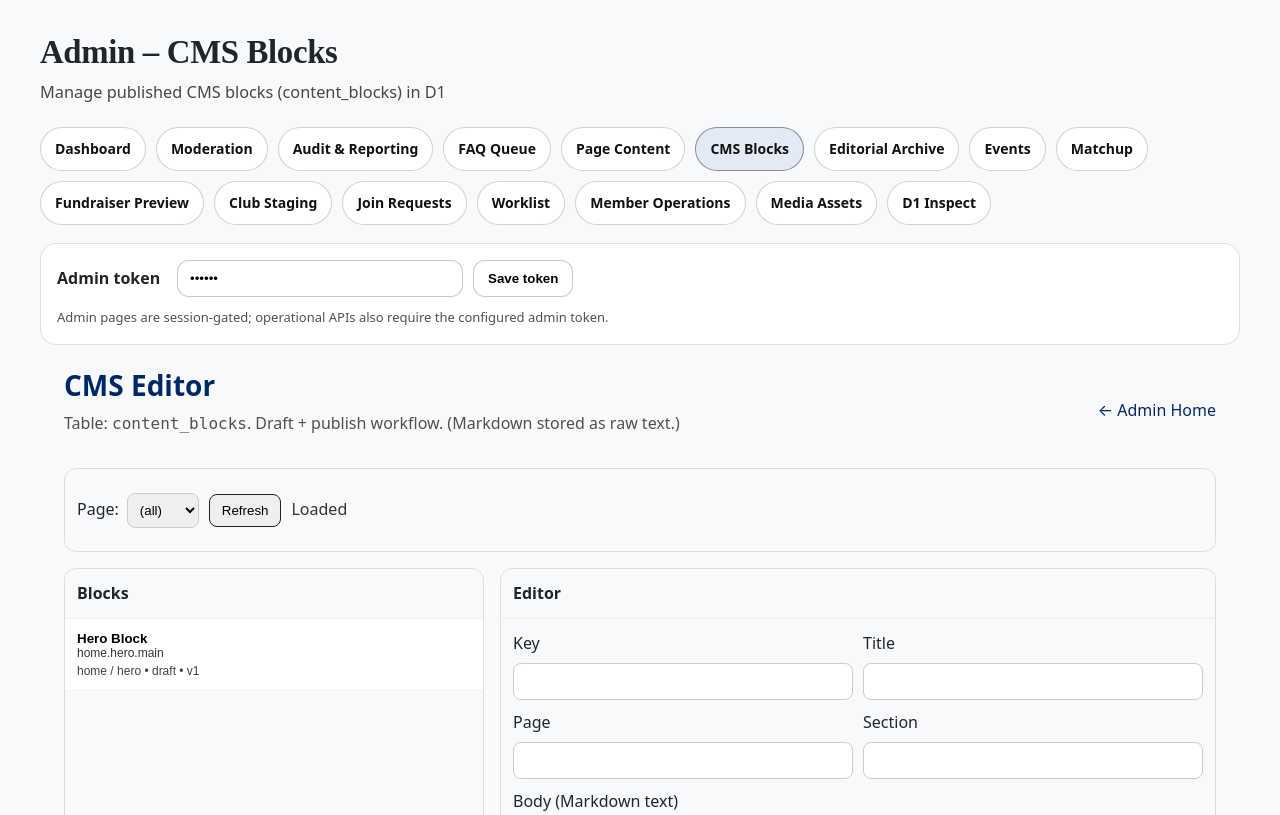
Test: admin CMS page › clears CMS editor fields when the admin token is removed
Click the text "Hero Block".
click(112, 639)  # box [77, 632, 147, 646]
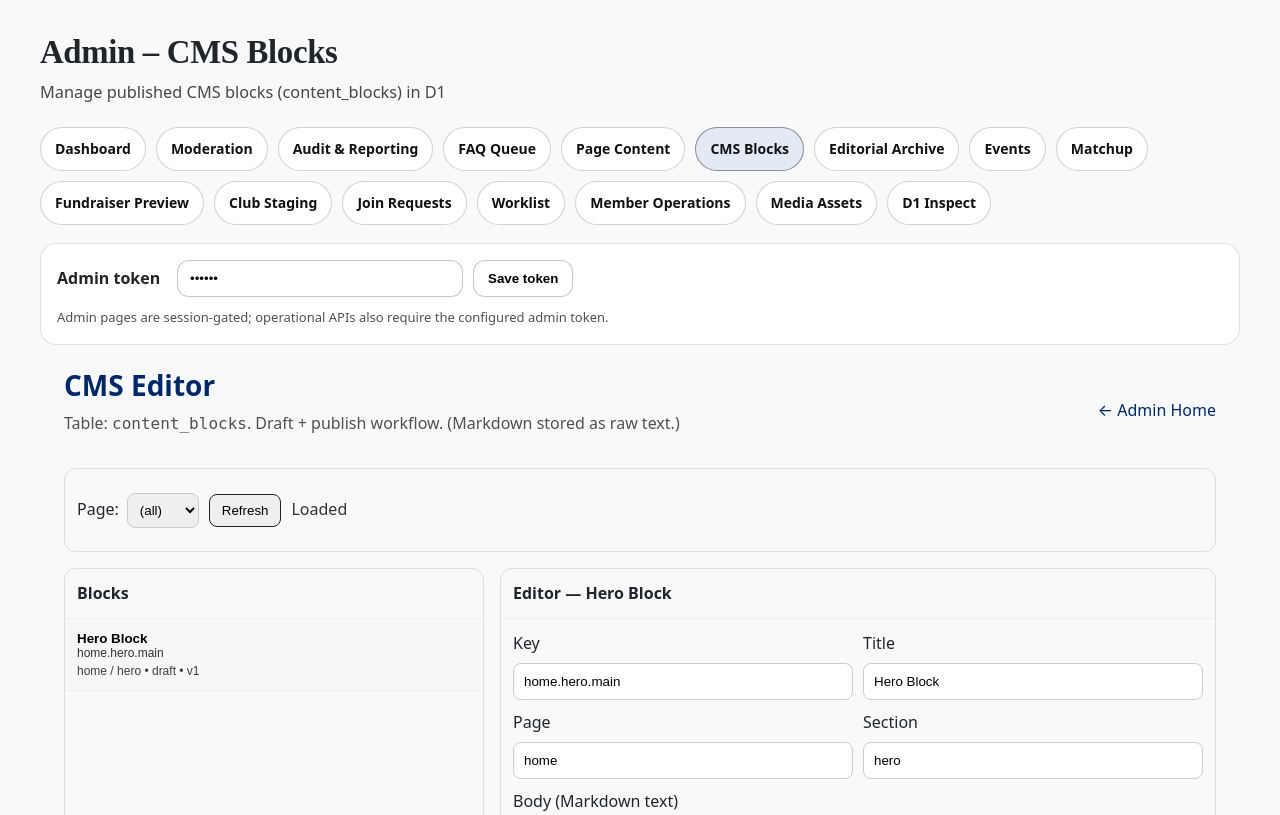
Expected: the field labelled "Key" holds "home.hero.main", [513, 663, 853, 700]
Clear the password field labelled "Admin token" at (320, 279), box [177, 260, 463, 297]
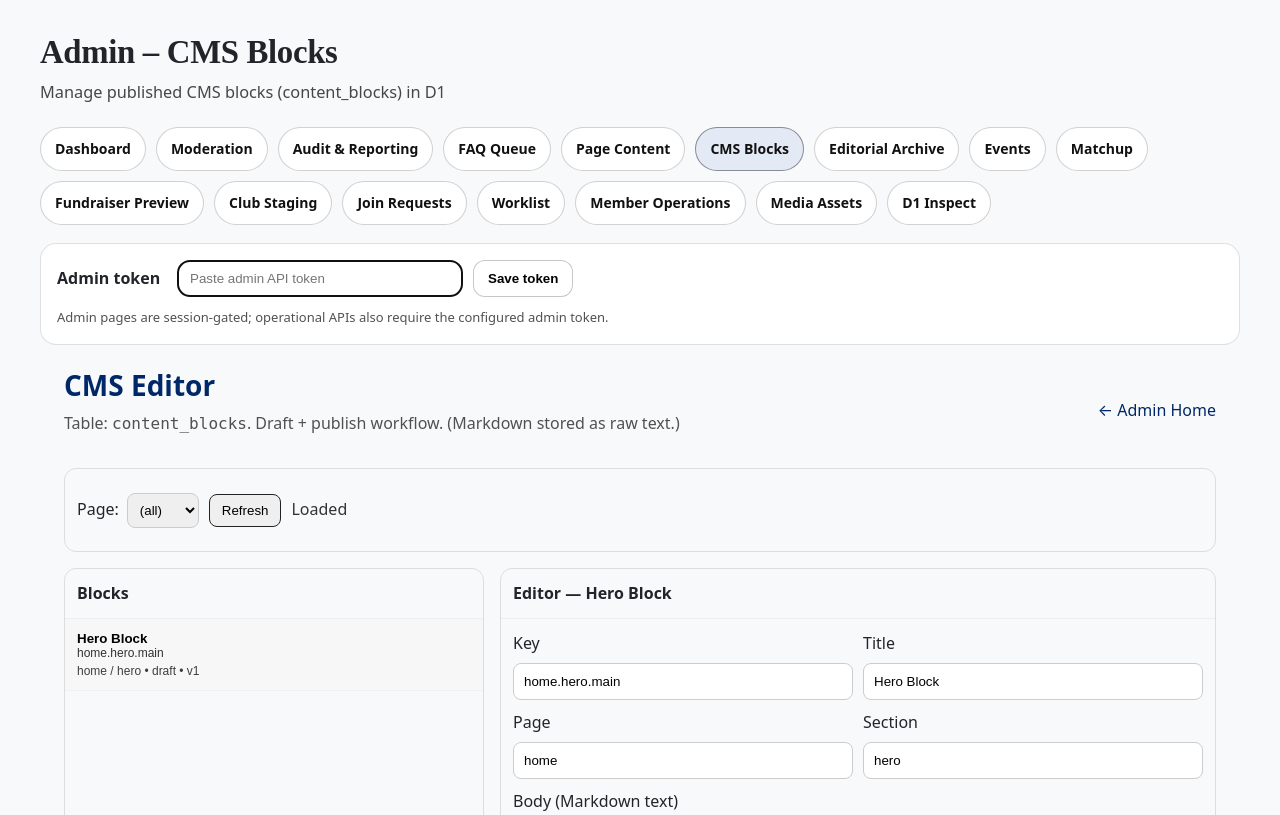
Click the button "Save token".
click(523, 279)  # box [473, 260, 573, 297]
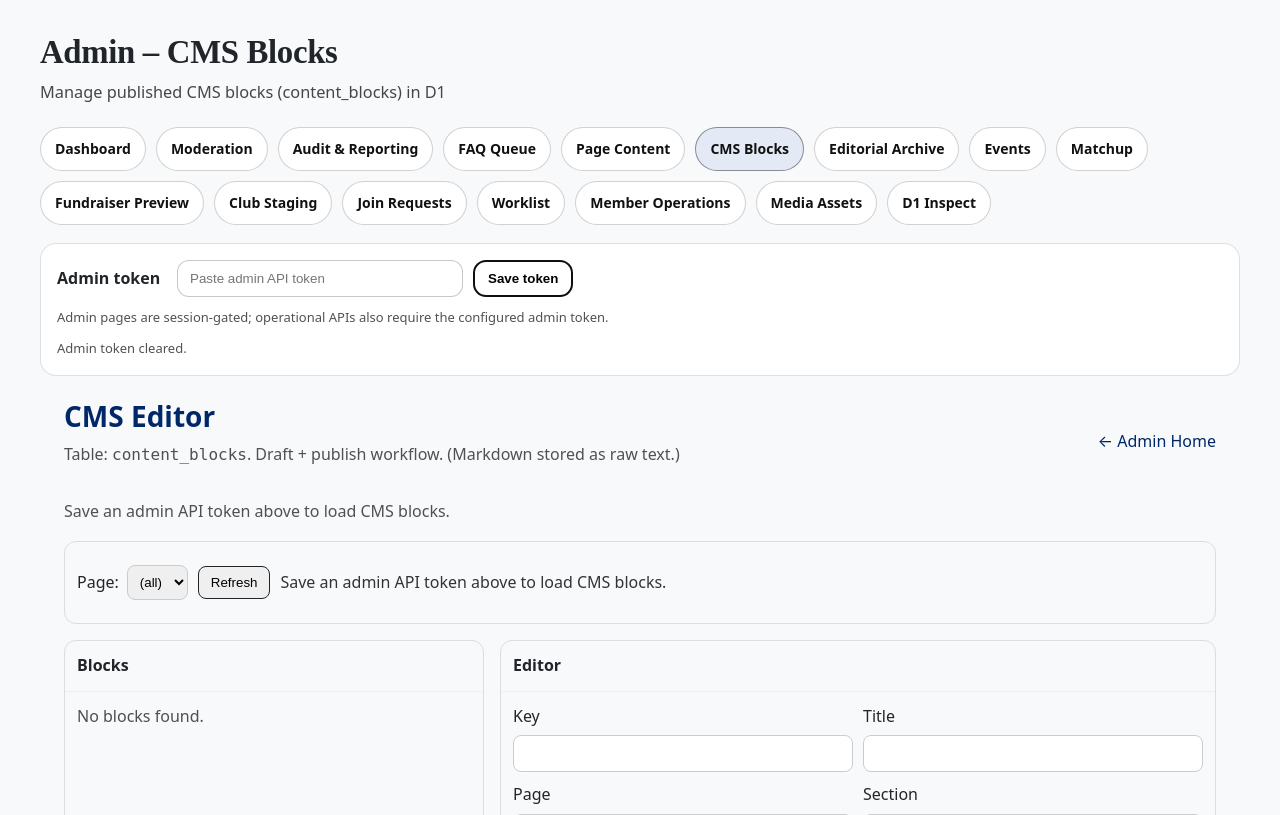
Expected: the 1st text "Save an admin API token above to load CMS blocks." is shown, [64, 500, 450, 522]
Expected: the field labelled "Key" is empty, [513, 736, 853, 772]
Expected: the field labelled "Title" is empty, [863, 736, 1203, 772]
